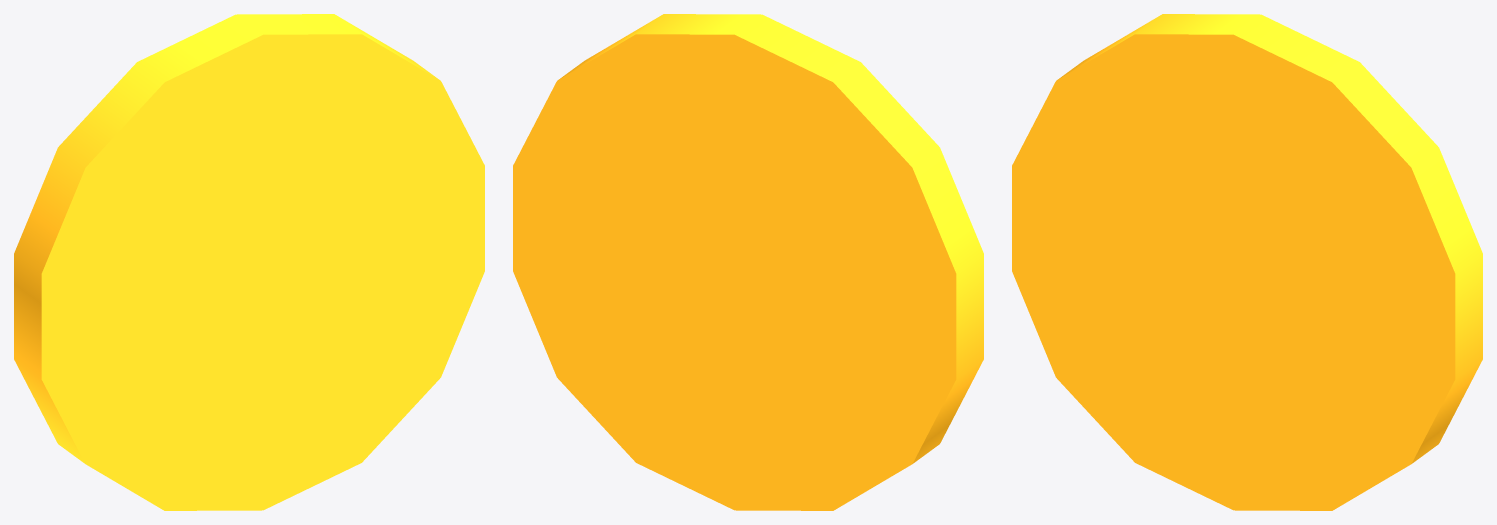
The model's file is coin.glb.
3 renders of one model, left to right at view 1: azimuth 30°, elevation 25°; view 2: azimuth 150°, elevation 25°; view 3: azimuth 330°, elevation 25°, orthographic.
Visible parts, largest first — view 1: Coin; view 2: Coin; view 3: Coin.
Boxes of the visible parts, <box> form: Coin: <box>14,14,484,510</box>; Coin: <box>513,14,983,510</box>; Coin: <box>1012,14,1482,510</box>.
Size of the model in its own units: 0.7409 by 0.76 by 0.08.
